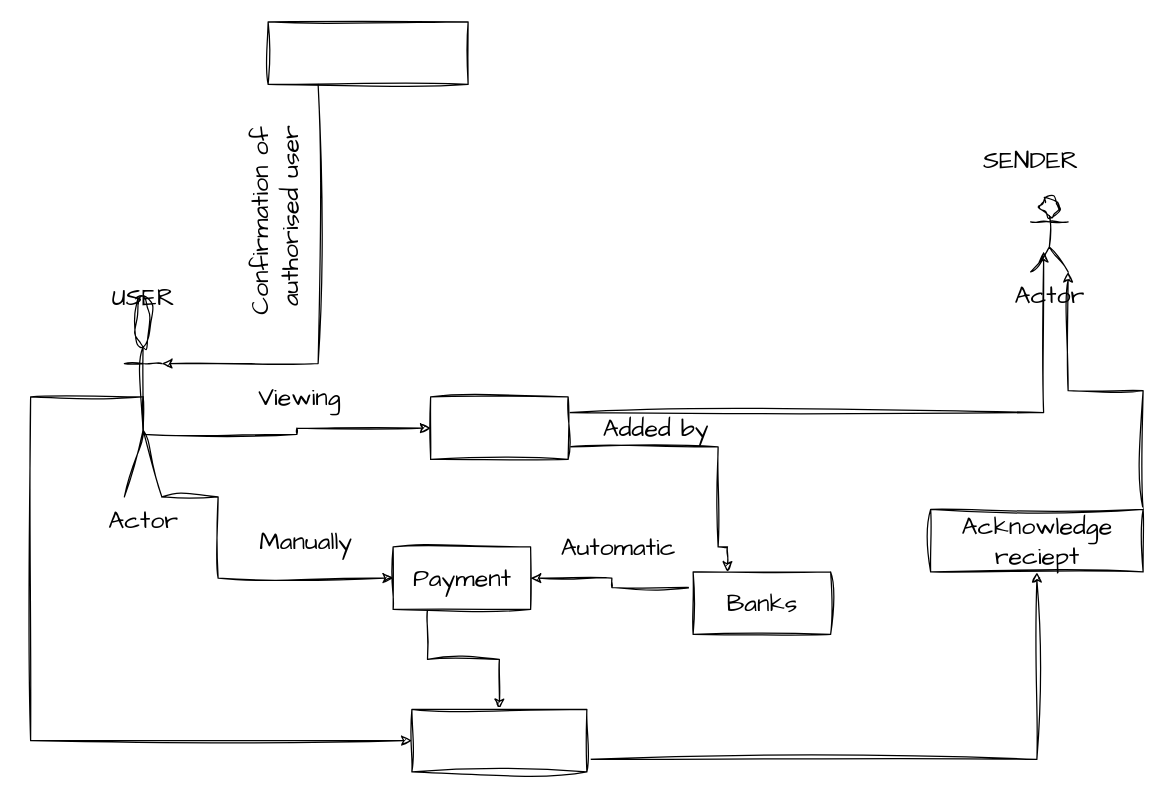
The diagram is 1175 pixels wide and 794 high, and some of its shapes have lost their labels. The centre of each missing label's shape, as x and y in pixels:
Bills: point 498,427
Confirmation: point 499,740
Registration or login: point 367,52
